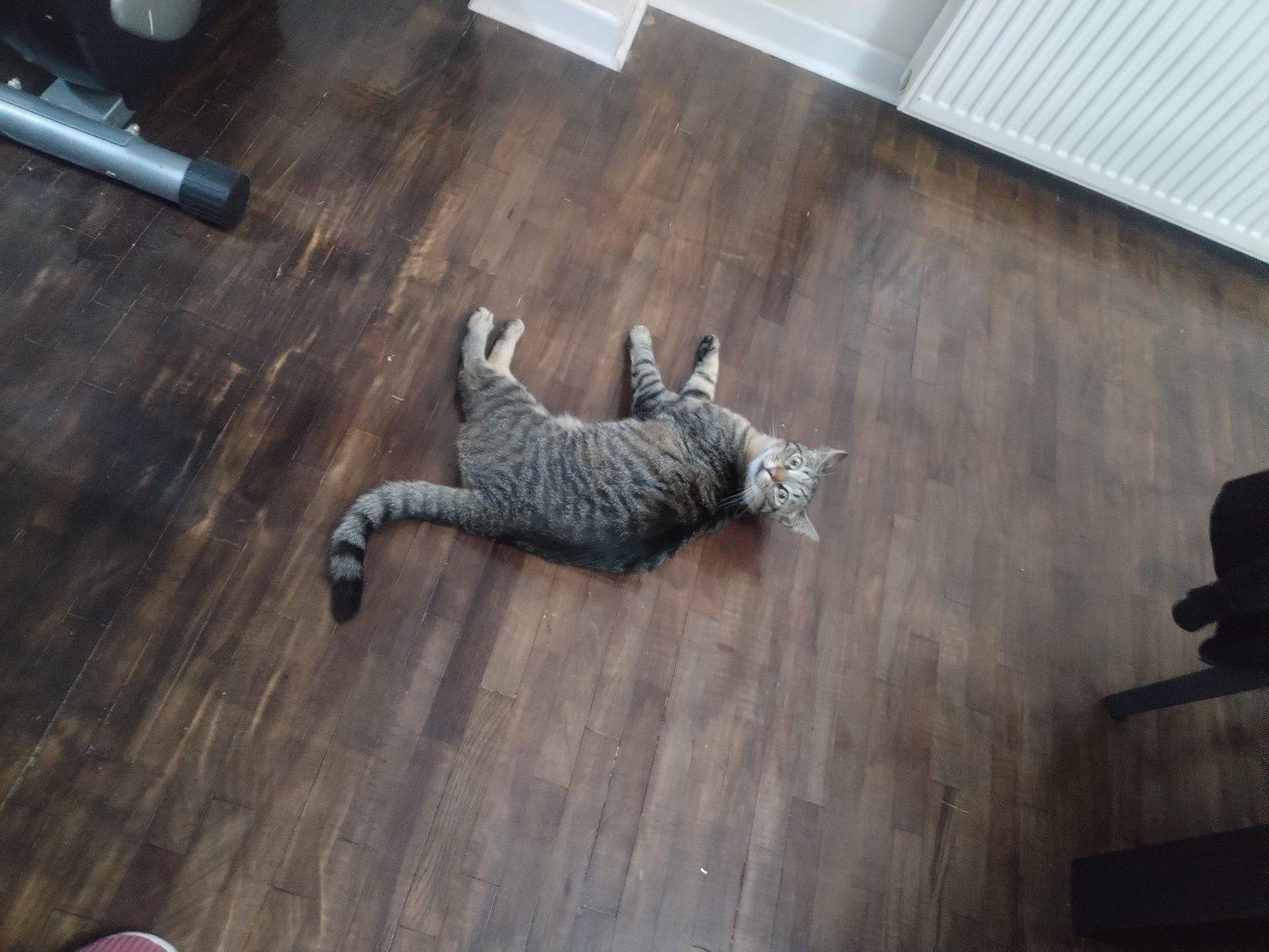macka: (328, 304, 851, 625)
